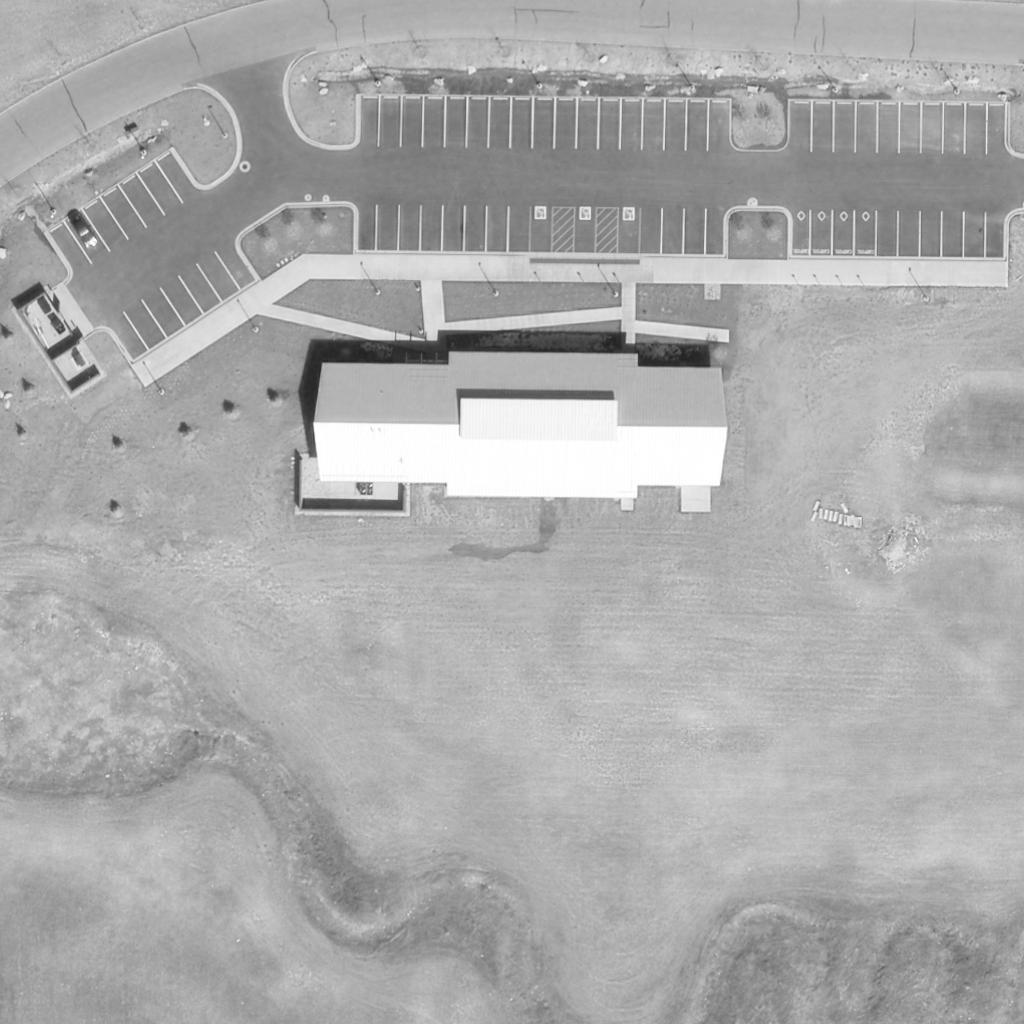vehicle: (67, 212, 99, 250)
